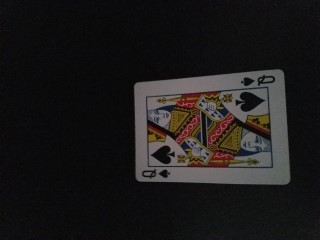QueenOfSpades: (134, 69, 291, 186)
